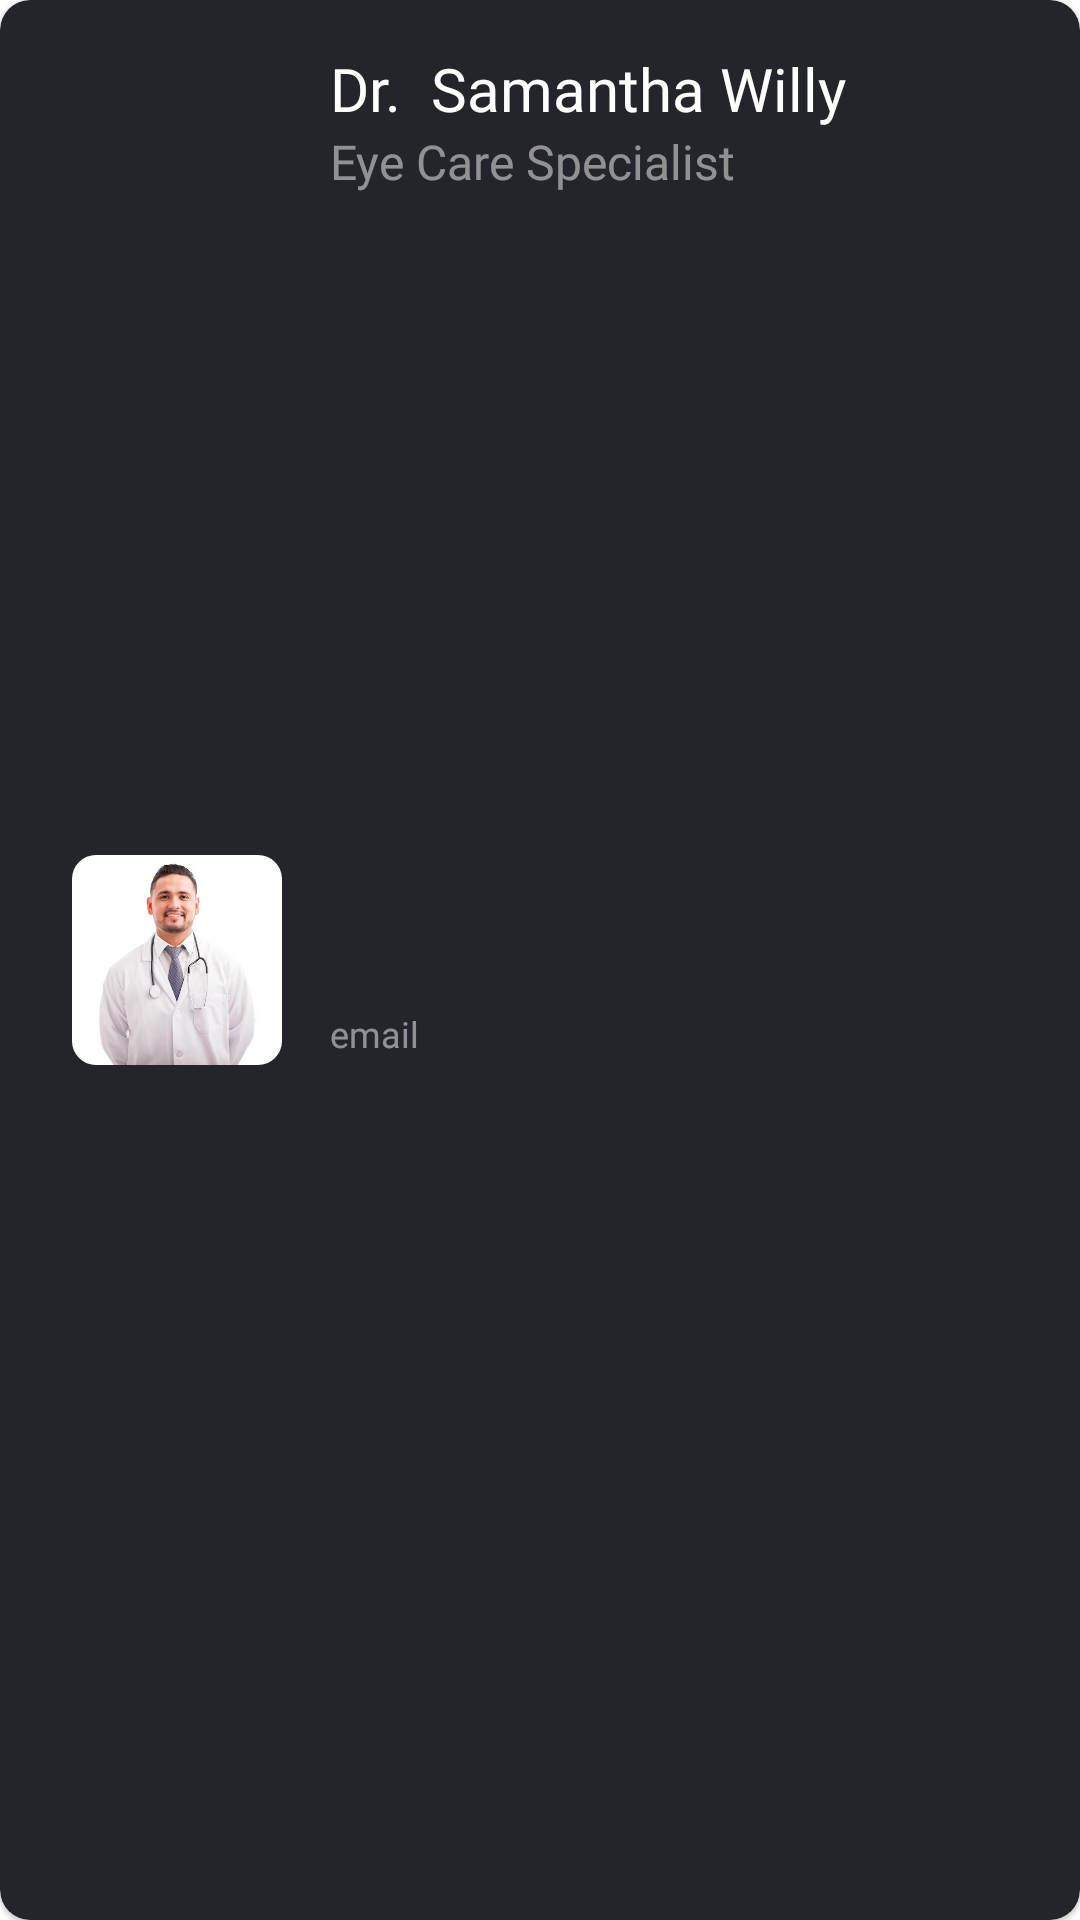

Icon click points for this 1080px x 1920px phone screenshot, format (x=x, y=y):
doctorpic: (x=177, y=960)
